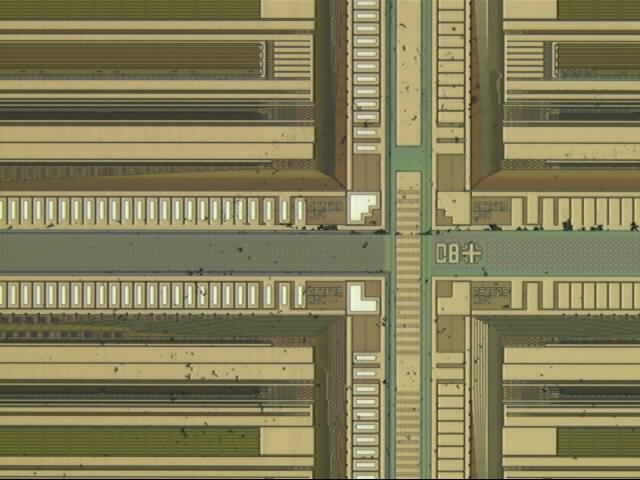PO CONTAMINATION: (44, 20, 640, 446)
